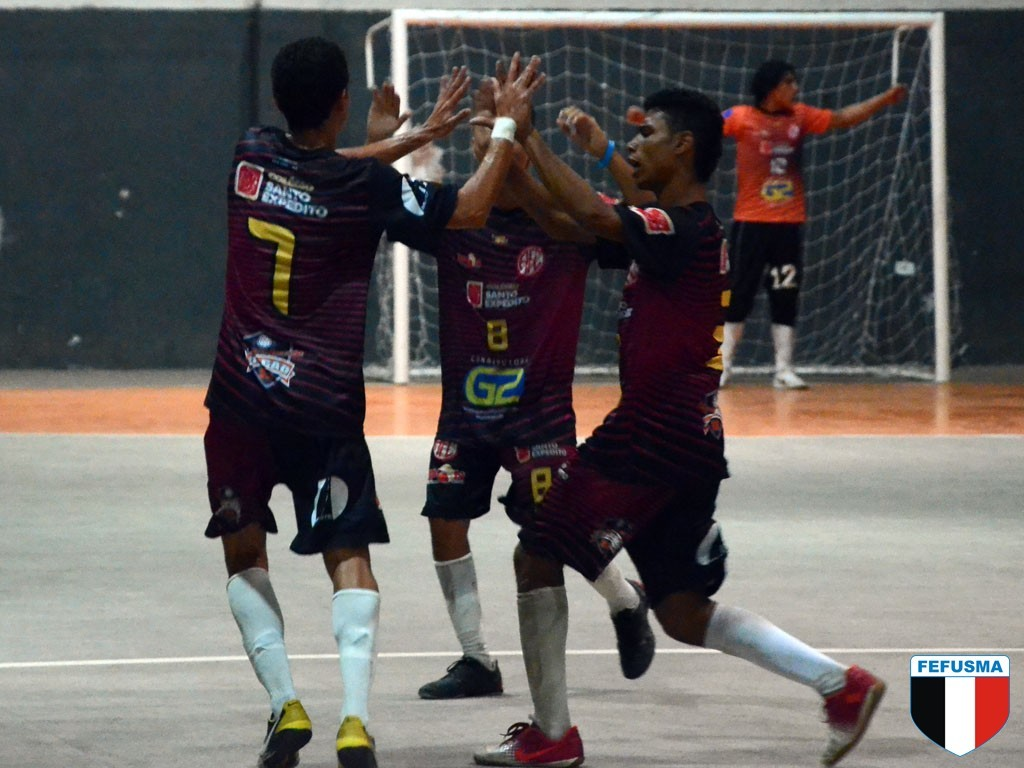Human_hand: (488, 48, 549, 129), (427, 66, 472, 136), (368, 83, 413, 138), (476, 72, 497, 158)
